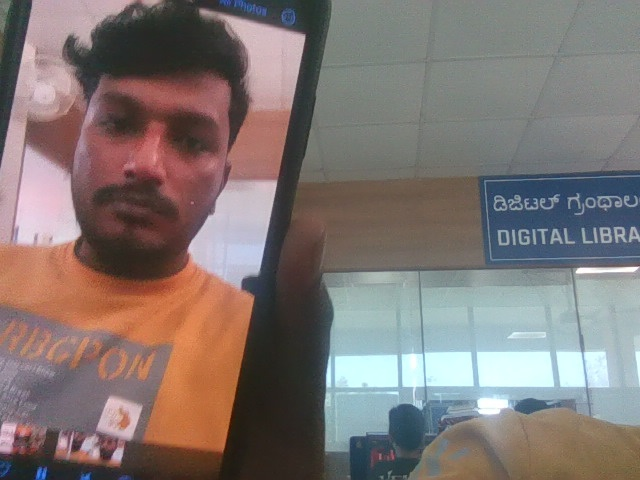fake: (48, 0, 254, 292)
